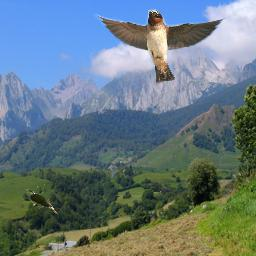Cuckoo: (25, 189, 59, 215)
Swallow: (92, 9, 226, 84)
